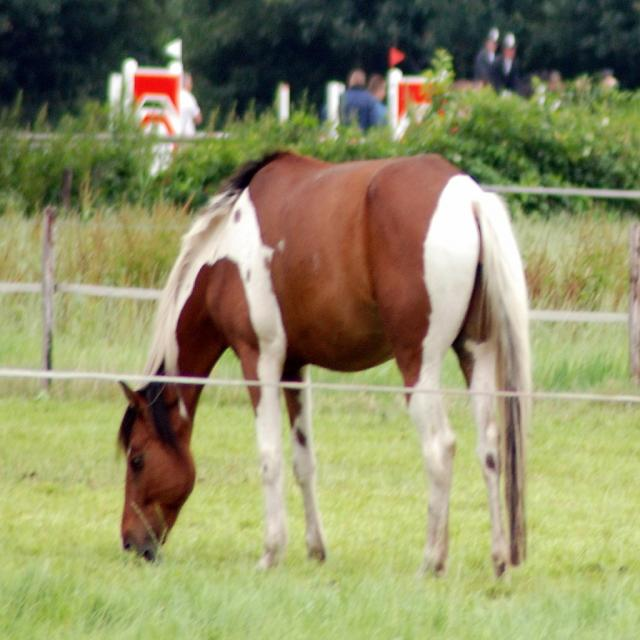Horse: (118, 146, 530, 576)
